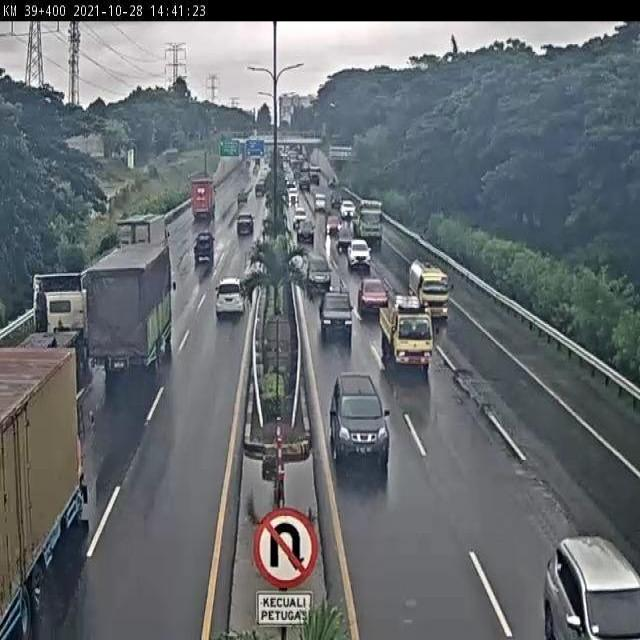big truck: (0, 270, 88, 398)
car: (525, 506, 640, 640), (328, 374, 390, 469), (318, 288, 353, 340), (357, 277, 389, 316), (214, 277, 246, 315), (305, 253, 332, 292), (347, 238, 371, 270), (193, 232, 214, 263)
mid truck: (85, 244, 175, 371), (115, 213, 170, 268)
truck-m-: (379, 289, 434, 371), (409, 259, 450, 321)
